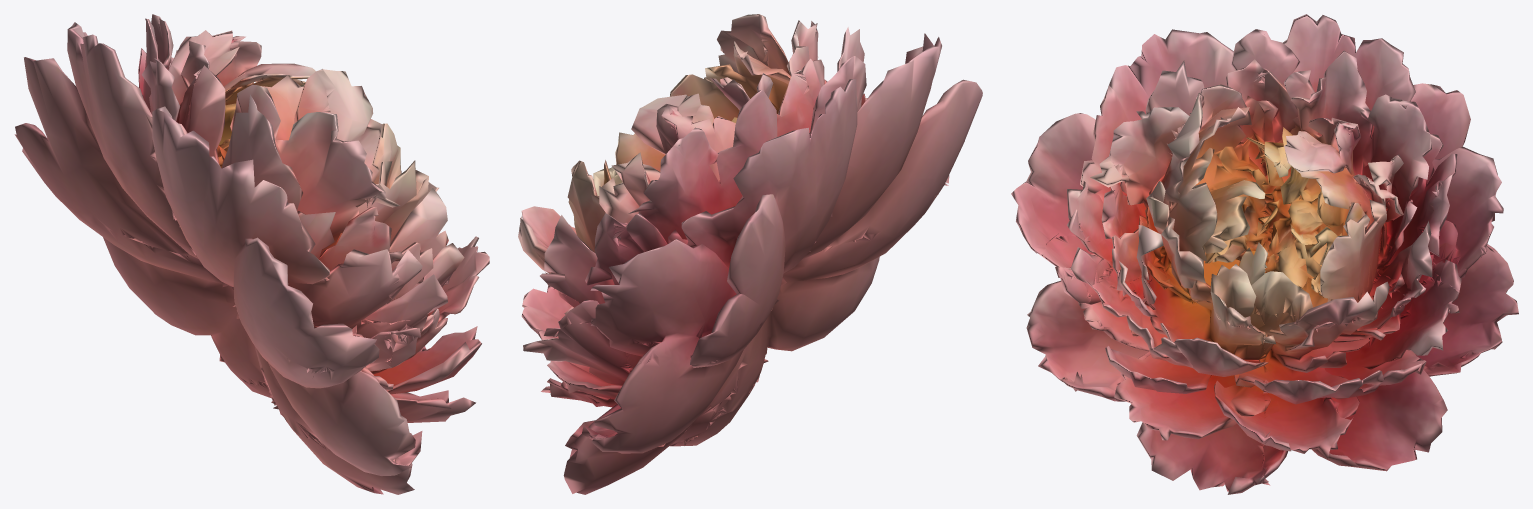
File: peony.glb
3 renders of one model, left to right at view 1: azimuth 30°, elevation 25°; view 2: azimuth 150°, elevation 25°; view 3: azimuth 270°, elevation 25°, orthographic. The views are drawn at different scales.
Visible parts, largest first — view 1: tripo_node_6f496b17-2baf-4b2f-8bbd-502622d951ea; view 2: tripo_node_6f496b17-2baf-4b2f-8bbd-502622d951ea; view 3: tripo_node_6f496b17-2baf-4b2f-8bbd-502622d951ea.
Part boxes in pixels (<box>): tripo_node_6f496b17-2baf-4b2f-8bbd-502622d951ea: <box>14,14,489,494</box>; tripo_node_6f496b17-2baf-4b2f-8bbd-502622d951ea: <box>518,14,982,494</box>; tripo_node_6f496b17-2baf-4b2f-8bbd-502622d951ea: <box>1011,14,1518,494</box>.
Bounding box in the file's own units: 0.6234 × 0.8205 × 0.9777.
1 material, 1 textured.
